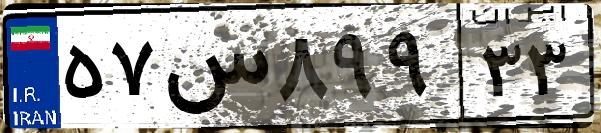3: (475, 38, 525, 113), (525, 38, 570, 115)
5: (57, 26, 110, 100)
7: (110, 28, 158, 98)
8: (270, 28, 330, 110)
9: (385, 28, 445, 110), (330, 28, 385, 110)
س: (158, 20, 270, 120)
